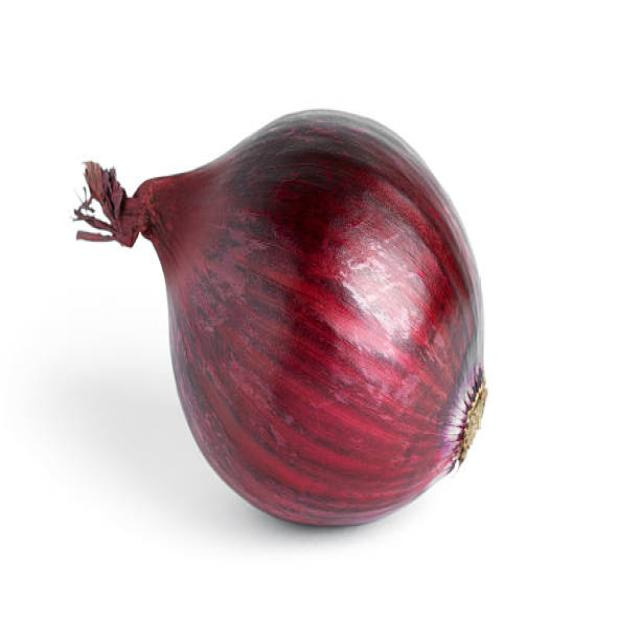onion: (162, 104, 492, 534)
